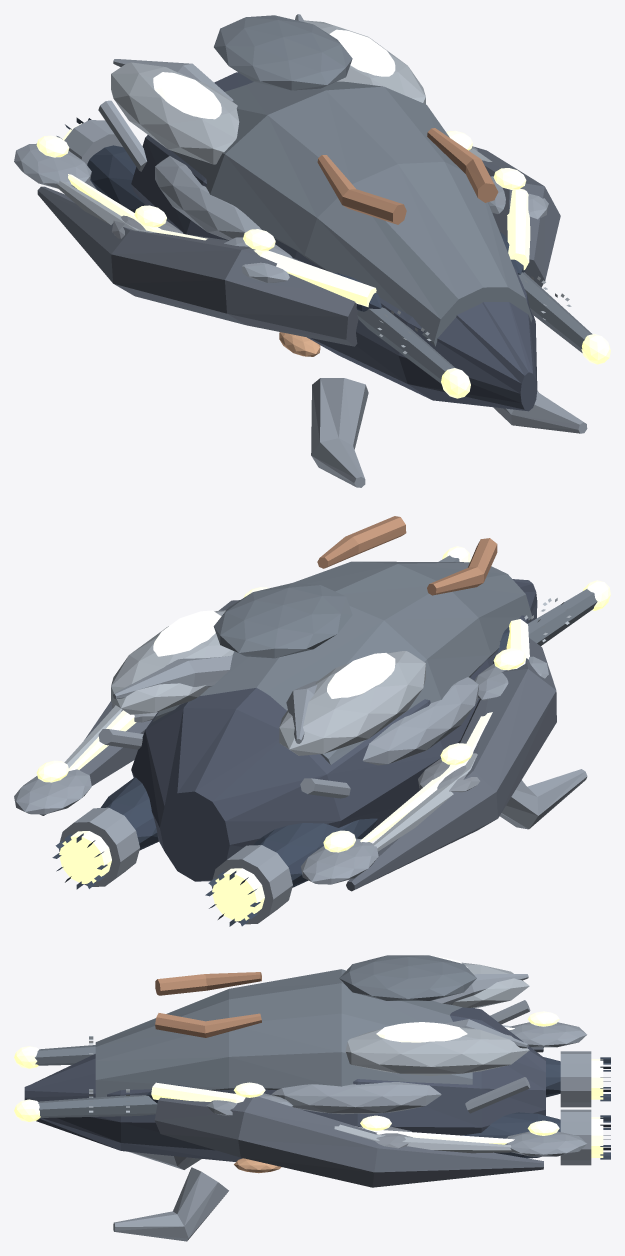
The model's file is npc_aiderStreuner.glb.
3 views of the same model, one above another, from view 1: azimuth 30°, elevation 25°; view 2: azimuth 150°, elevation 25°; view 3: azimuth 270°, elevation 25° (orthographic). The views are drawn at different scales.
Parts seen in each view (by area): view 1: upper_armor_scar, armored_scythe_-1, keel_pressure_hull, support_service_tank, support_repair_cell_-1, support_underside_repair_arm_-1, heavy_shield_pad_-1, energy_etched_rail_-1, armored_scythe_1, long_plasma_cannon_-1, engine_armor_-1, pirate_crest_-1 (+17 smaller); view 2: keel_pressure_hull, upper_armor_scar, armored_scythe_-1, support_service_tank, support_repair_cell_-1, heavy_shield_pad_-1, support_repair_cell_1, engine_armor_-1, exhaust_coil_-1, exhaust_coil_1, support_underside_repair_arm_-1, scythe_plate_1_2 (+24 smaller); view 3: upper_armor_scar, armored_scythe_1, keel_pressure_hull, support_repair_cell_1, support_service_tank, heavy_shield_pad_1, support_underside_repair_arm_1, long_plasma_cannon_1, energy_etched_rail_1, exhaust_coil_-1, pirate_crest_-1, pirate_crest_1 (+21 smaller).
Boxes of the visible parts, box(x1,y1,x2,y2) form: upper_armor_scar: box(171, 81, 532, 346); armored_scythe_-1: box(37, 186, 358, 346); keel_pressure_hull: box(131, 72, 537, 411); support_service_tank: box(214, 15, 352, 90); support_repair_cell_-1: box(111, 62, 239, 164); support_underside_repair_arm_-1: box(311, 378, 368, 487); heavy_shield_pad_-1: box(155, 156, 261, 240); energy_etched_rail_-1: box(68, 174, 376, 307); armored_scythe_1: box(474, 147, 560, 287); long_plasma_cannon_-1: box(357, 307, 454, 383); engine_armor_-1: box(87, 145, 145, 212); pirate_crest_-1: box(317, 155, 406, 224); keel_pressure_hull: box(131, 579, 537, 881); upper_armor_scar: box(153, 561, 531, 764); armored_scythe_-1: box(346, 638, 556, 891); support_service_tank: box(213, 583, 352, 658); support_repair_cell_-1: box(279, 651, 425, 755); heavy_shield_pad_-1: box(363, 677, 478, 765); support_repair_cell_1: box(111, 610, 233, 714); engine_armor_-1: box(253, 818, 377, 887); exhaust_coil_-1: box(211, 845, 292, 924); exhaust_coil_1: box(59, 807, 139, 886); support_underside_repair_arm_-1: box(500, 769, 587, 829); scythe_plate_1_2: box(14, 769, 91, 814); upper_armor_scar: box(95, 969, 472, 1097); armored_scythe_1: box(154, 1096, 543, 1187); keel_pressure_hull: box(24, 1007, 545, 1161); support_repair_cell_1: box(345, 1027, 529, 1075); support_service_tank: box(339, 955, 476, 1000); heavy_shield_pad_1: box(271, 1082, 441, 1114); support_underside_repair_arm_1: box(113, 1167, 228, 1241); long_plasma_cannon_1: box(38, 1095, 157, 1117); energy_etched_rail_1: box(151, 1082, 514, 1144); exhaust_coil_-1: box(560, 1051, 591, 1107); pirate_crest_-1: box(155, 972, 261, 995); pirate_crest_1: box(155, 1013, 261, 1037).
Bounding box in the file's own units: 1.83 × 1.37 × 3.12.
